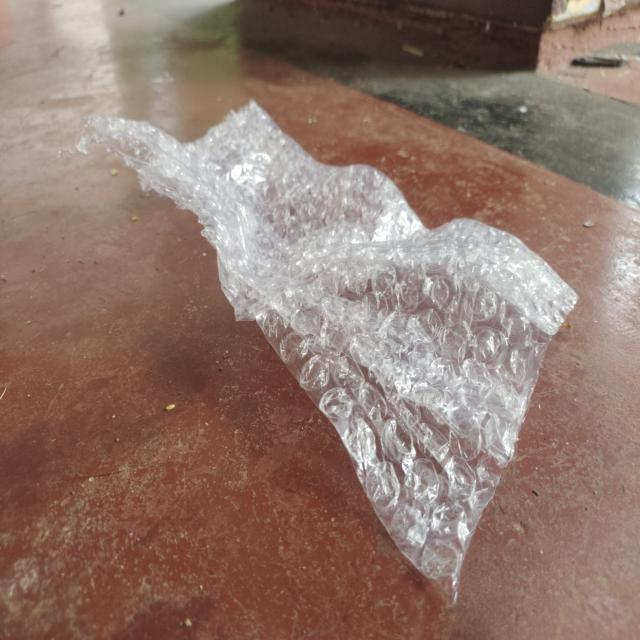plastic: (75, 99, 577, 609)
